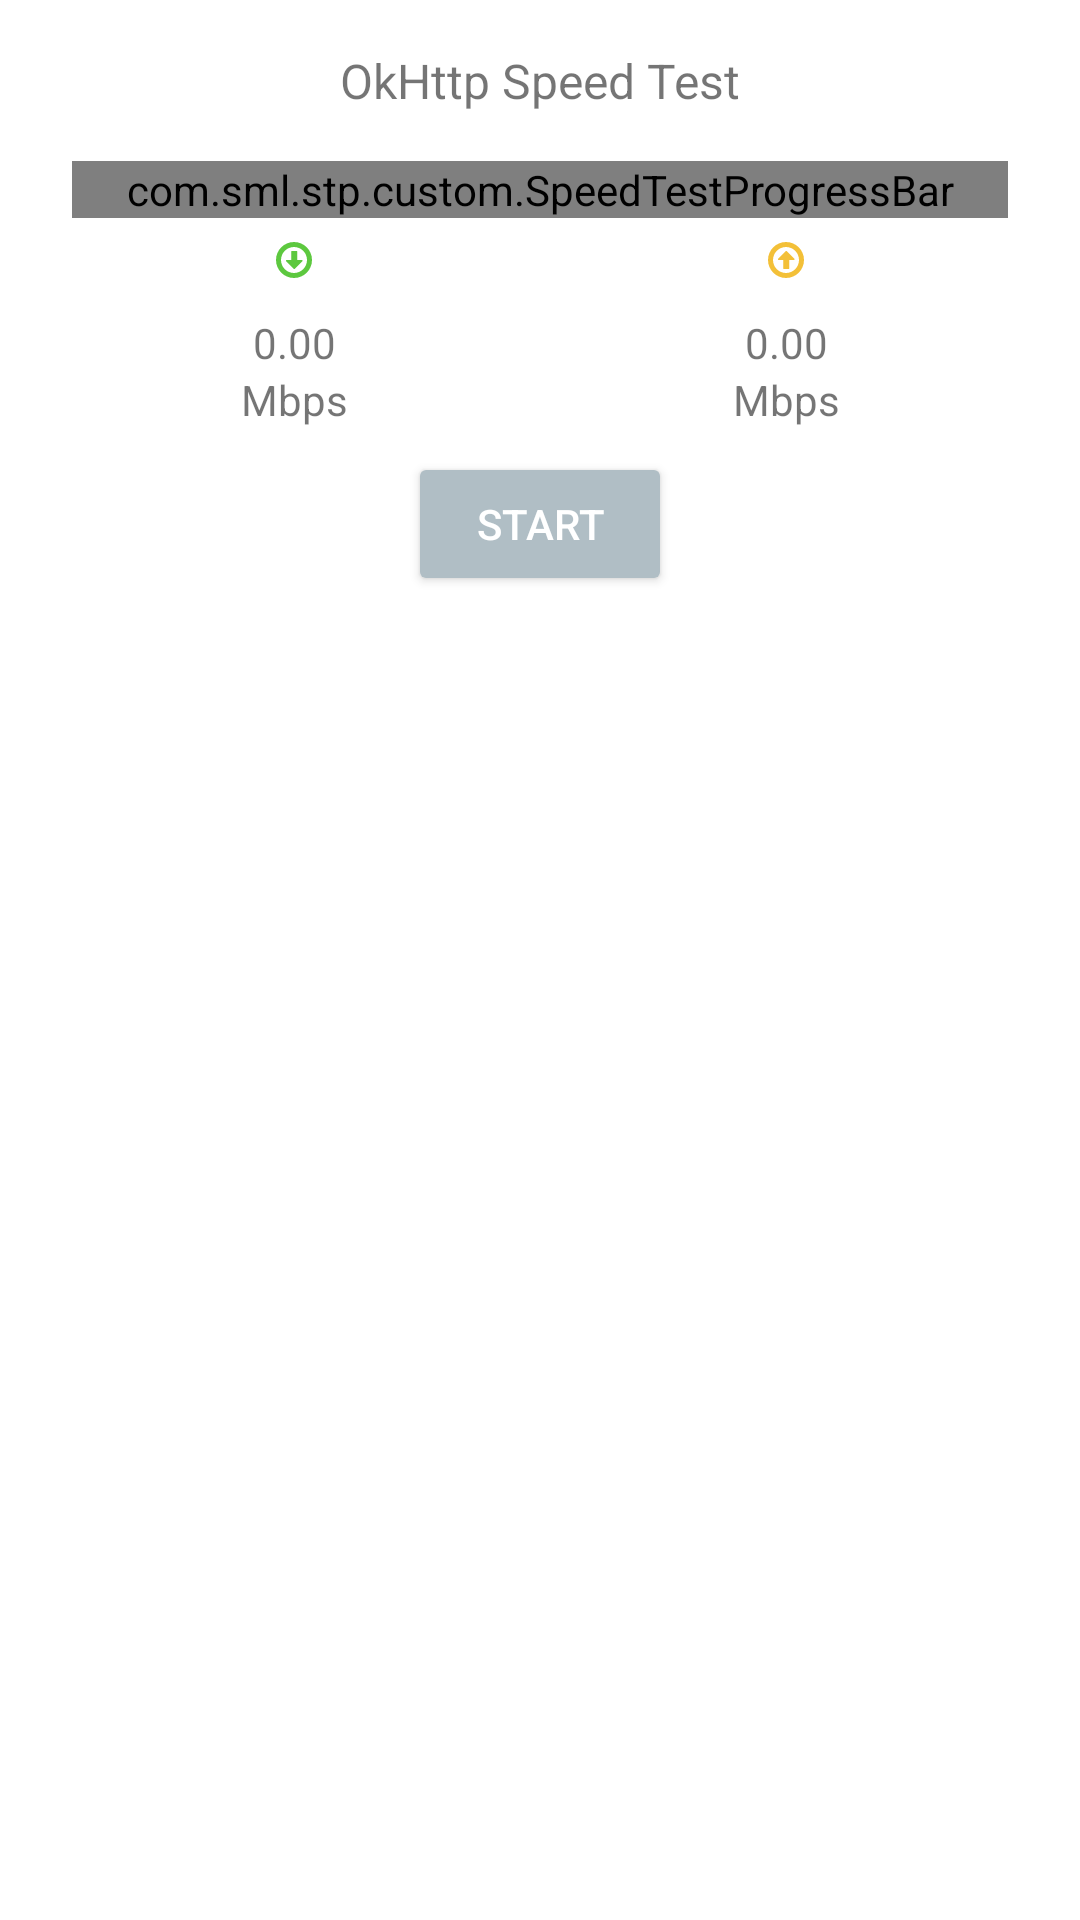

Screen size 1080 x 1920. Icon name, then its box in pixels as (x1, y1, x2, y2):
download: (276, 242, 312, 278)
upload: (768, 242, 804, 278)
